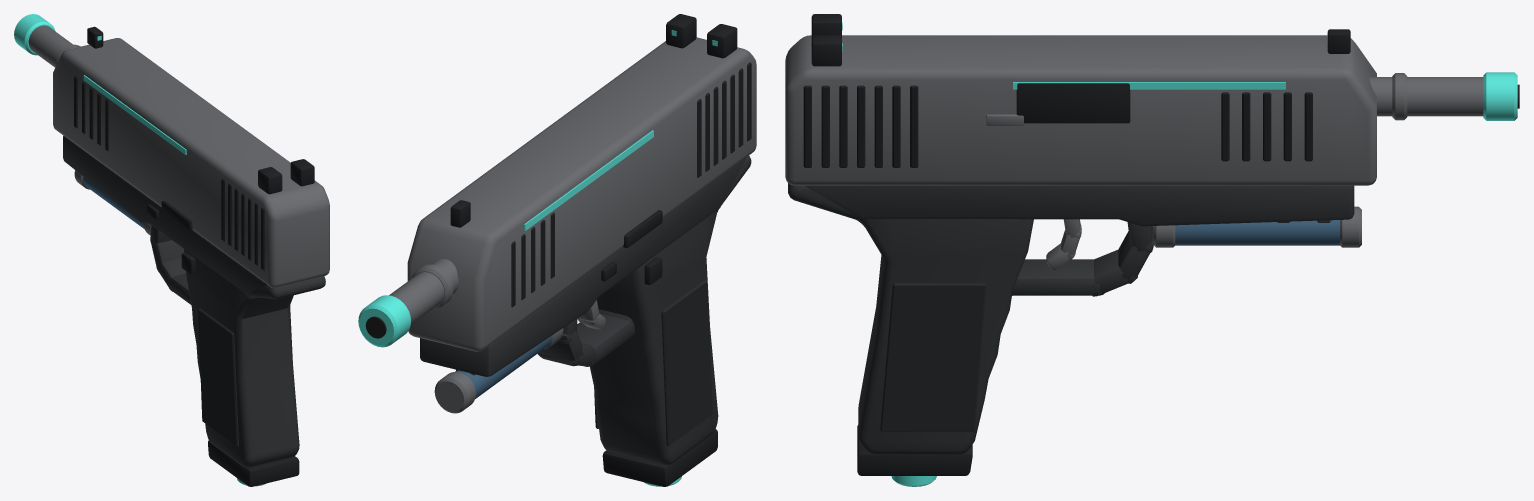
Rendered from TranquilizerPistol.fbx.
The picture shows the model from 3 angles, left to right: view 1: azimuth 30°, elevation 25°; view 2: azimuth 150°, elevation 25°; view 3: azimuth 270°, elevation 25°; orthographic projection. The views are drawn at different scales.
Visible parts, largest first — view 1: Slide, Grip, Frame, Grip Texture Panel -1, Magazine Base Plate, Dart Barrel, Barrel Muzzle Collar, Slide Stripe -1, Trigger Guard 2, Rear Sight Post -1, Rear Sight Post 1, Trigger Guard 3 (+3 smaller); view 2: Slide, Grip, Frame, Grip Texture Panel -1, Magazine Base Plate, Dart Barrel, Barrel Muzzle Collar, Trigger Guard 4, Sedative Cartridge Front Cap, Slide Stripe -1, Sedative Cartridge Glass, Rear Sight Post 1 (+8 smaller); view 3: Slide, Frame, Grip, Grip Texture Panel 1, Ejection Port, Sedative Cartridge Glass, Dart Barrel, Trigger Guard 4, Magazine Base Plate, Barrel Muzzle Collar, Slide Stripe 1, Trigger Guard 3 (+2 smaller).
Boxes of the visible parts, box(x1,y1,x2,y2) form: Slide: box(53, 38, 329, 287); Grip: box(184, 249, 325, 467); Frame: box(63, 135, 267, 294); Grip Texture Panel -1: box(198, 308, 238, 446); Magazine Base Plate: box(208, 440, 299, 486); Dart Barrel: box(28, 25, 72, 67); Barrel Muzzle Collar: box(14, 14, 55, 55); Slide Stripe -1: box(83, 75, 186, 154); Trigger Guard 2: box(150, 237, 184, 271); Rear Sight Post -1: box(258, 167, 282, 194); Rear Sight Post 1: box(290, 159, 314, 186); Trigger Guard 3: box(156, 258, 185, 291); Slide: box(407, 37, 756, 351); Grip: box(590, 155, 751, 464); Frame: box(420, 158, 745, 376); Grip Texture Panel -1: box(661, 279, 712, 446); Magazine Base Plate: box(602, 429, 717, 486); Dart Barrel: box(389, 259, 458, 324); Barrel Muzzle Collar: box(358, 295, 410, 347); Trigger Guard 4: box(577, 313, 634, 366); Sedative Cartridge Front Cap: box(434, 372, 475, 413); Slide Stripe -1: box(524, 130, 653, 230); Sedative Cartridge Glass: box(455, 335, 552, 398); Rear Sight Post 1: box(666, 14, 696, 48); Slide: box(785, 35, 1376, 185); Frame: box(805, 185, 1354, 226); Grip: box(788, 183, 1033, 454); Grip Texture Panel 1: box(880, 283, 986, 431); Ejection Port: box(1016, 83, 1130, 123); Sedative Cartridge Glass: box(1175, 220, 1339, 245); Dart Barrel: box(1369, 77, 1483, 116); Trigger Guard 4: box(1012, 259, 1104, 295); Magazine Base Plate: box(857, 425, 972, 475); Barrel Muzzle Collar: box(1483, 72, 1517, 120); Slide Stripe 1: box(1013, 82, 1285, 89); Trigger Guard 3: box(1091, 250, 1137, 296).
Size of the model in its own units: 0.134 by 0.6545 by 0.968.
